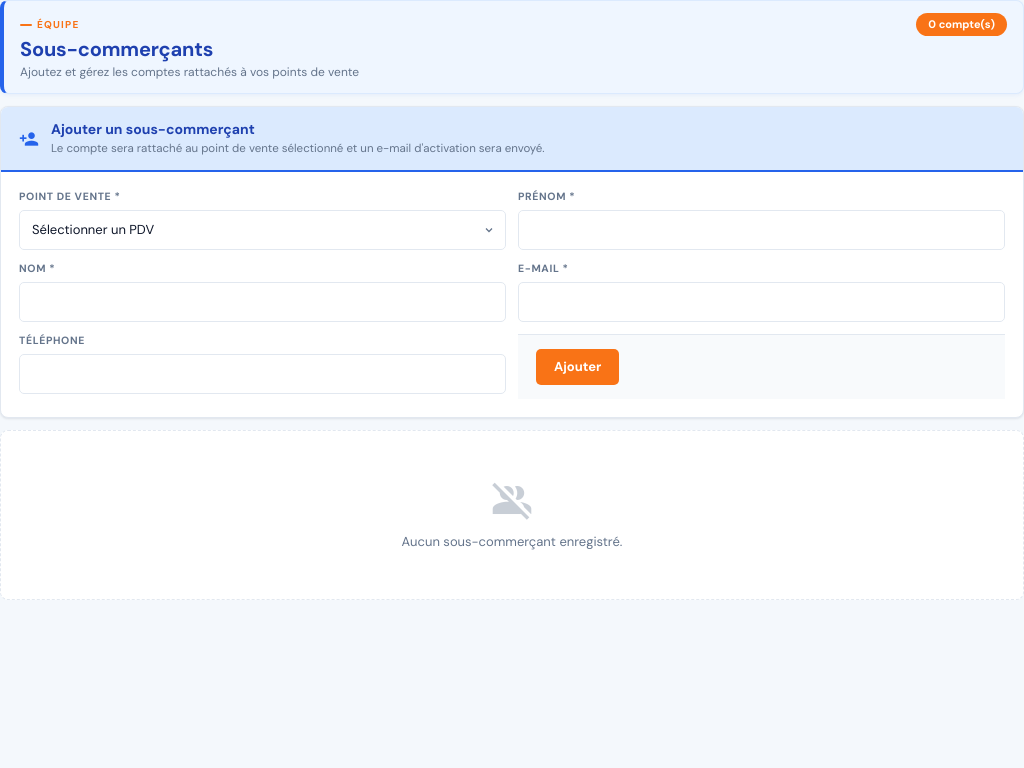
Test: CommercantSubCommercantsPage › bloque la creation si prenom/nom/email manquent
This screenshot has width=1024, height=768.
Click the button "Ajouter".
click(578, 367)  # box [536, 349, 619, 385]
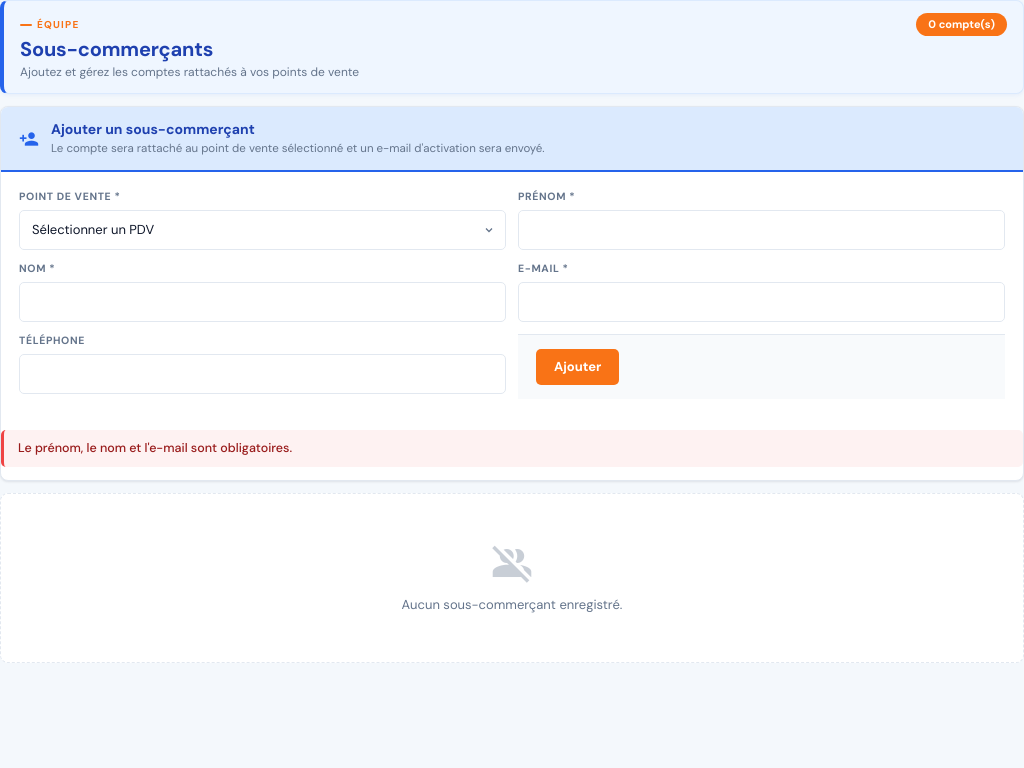
Check: the text "Le prénom, le nom et l'e-mail sont obligatoires." is shown, box [1, 430, 1023, 467]
